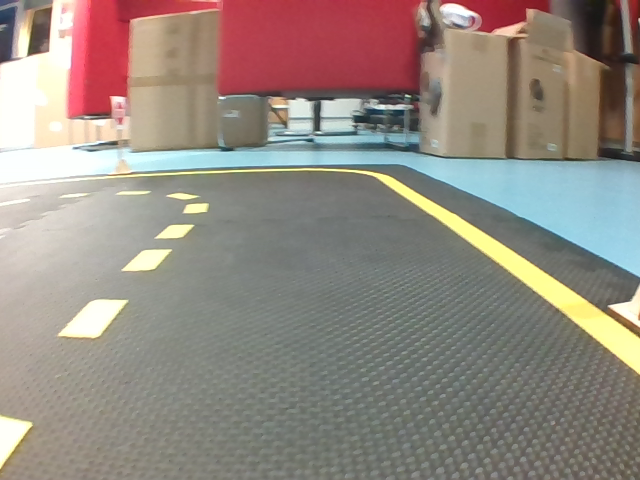stop: (112, 97, 126, 126)
